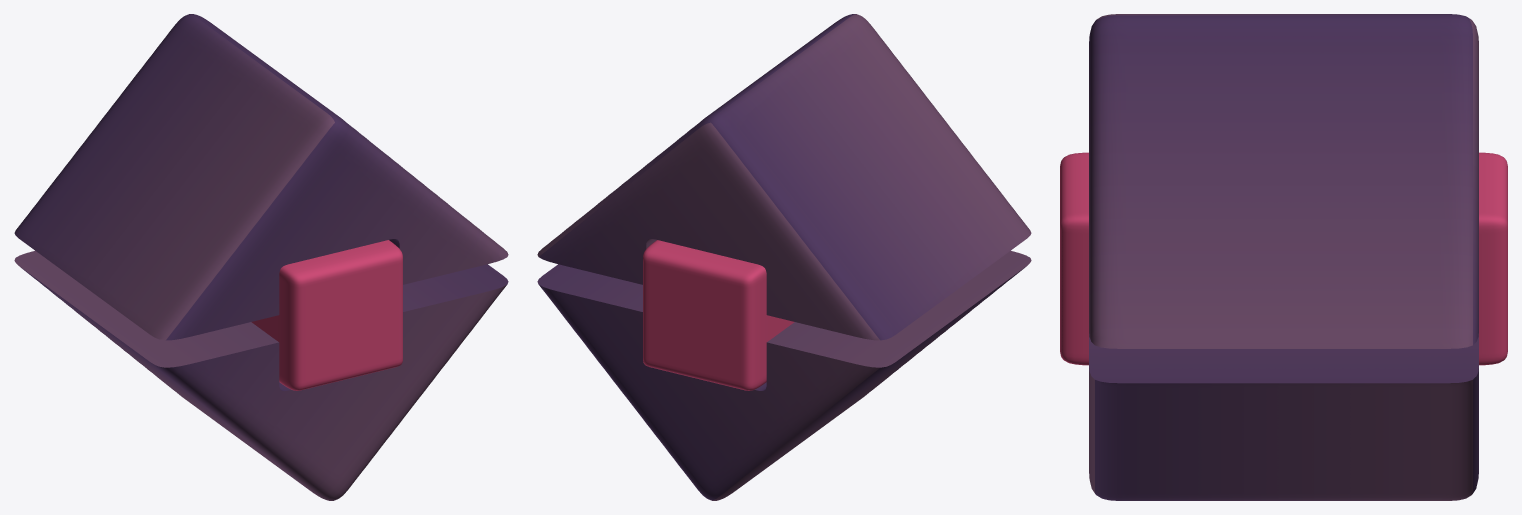
File: web.gltf
The picture shows the model from 3 angles, left to right: view 1: azimuth 30°, elevation 25°; view 2: azimuth 150°, elevation 25°; view 3: azimuth 270°, elevation 25°; orthographic projection. The views are drawn at different scales.
Visible parts, largest first — view 1: Boole, Cube; view 2: Boole, Cube; view 3: Boole, Cube.
Part boxes in pixels (x1,y1,x2,y2): Boole: (14, 14, 508, 500); Cube: (251, 240, 402, 390); Boole: (537, 14, 1031, 500); Cube: (643, 240, 794, 390); Boole: (1089, 14, 1478, 500); Cube: (1060, 152, 1507, 365).
Bounding box in the file's own units: 6.53 × 6.8 × 5.69.
2 materials, 1 textured.
